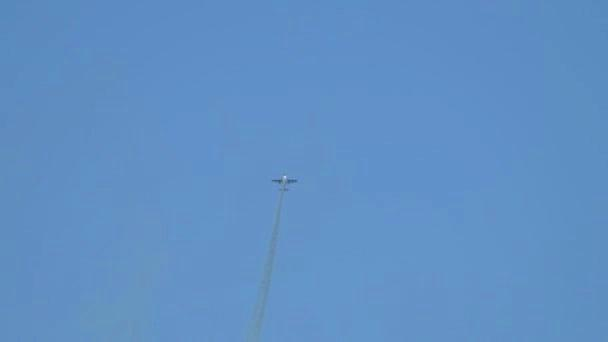Plane: (260, 168, 310, 193)
